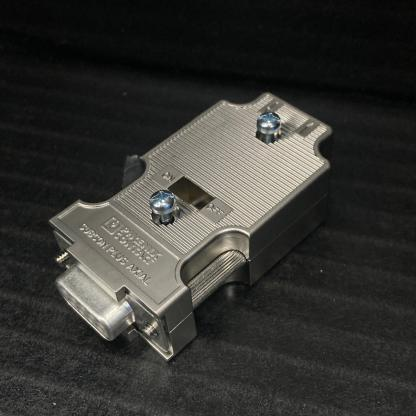SP0000010: (24, 45, 377, 372)
